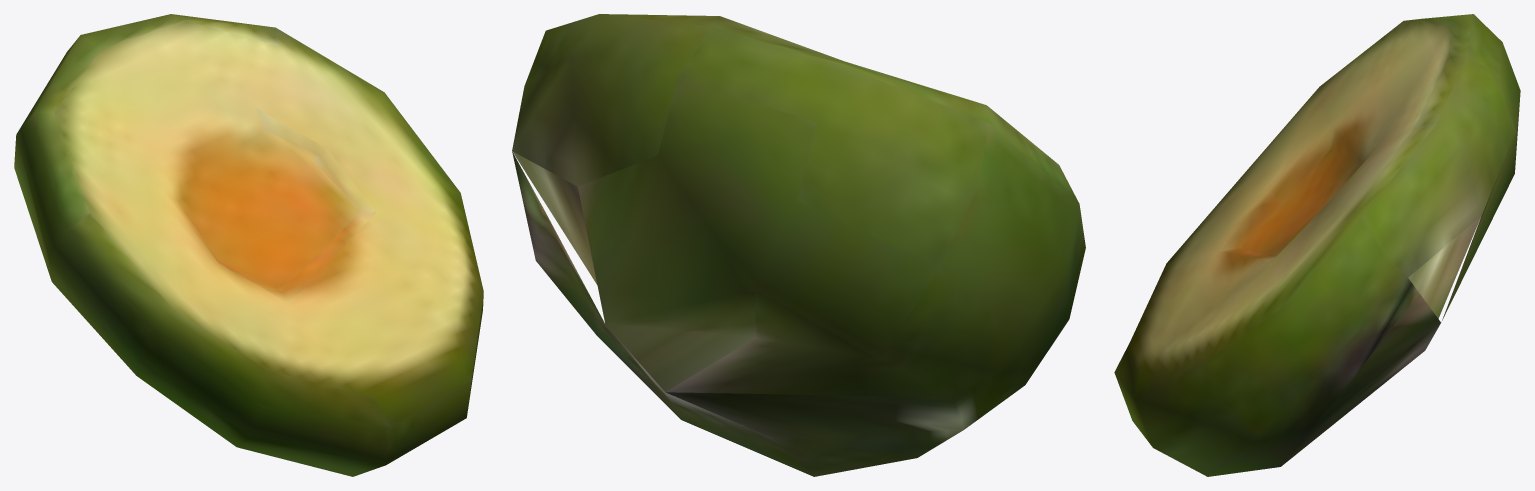
Rendered from avocado.glb.
3 renders of one model, left to right at view 1: azimuth 30°, elevation 25°; view 2: azimuth 150°, elevation 25°; view 3: azimuth 270°, elevation 25°, orthographic. The views are drawn at different scales.
Visible parts, largest first — view 1: Avocado; view 2: Avocado; view 3: Avocado.
Part boxes in pixels (box(x1,y1,x2,y2)): Avocado: box(14, 14, 483, 476); Avocado: box(512, 14, 1085, 476); Avocado: box(1114, 14, 1520, 476).
Bounding box in the file's own units: 1.33 × 1.29 × 1.25.
1 material, 1 textured.
